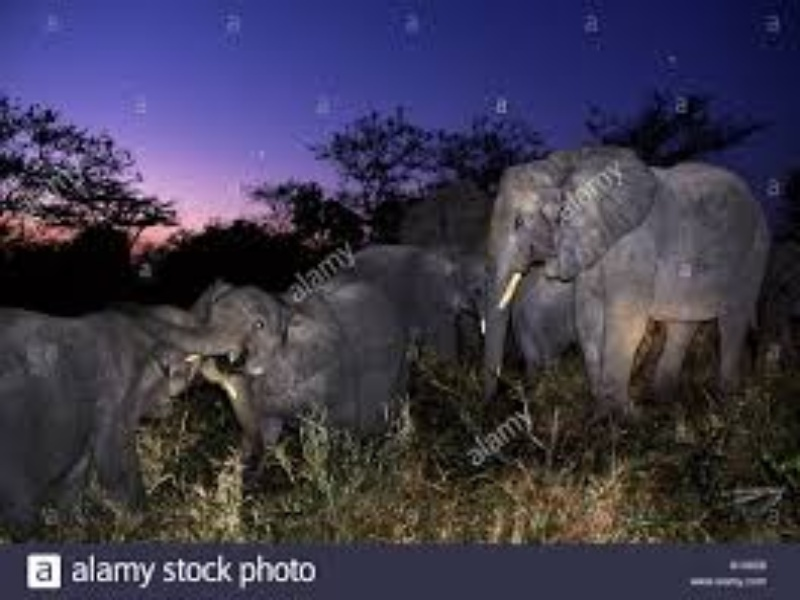elephant: (452, 113, 771, 416)
